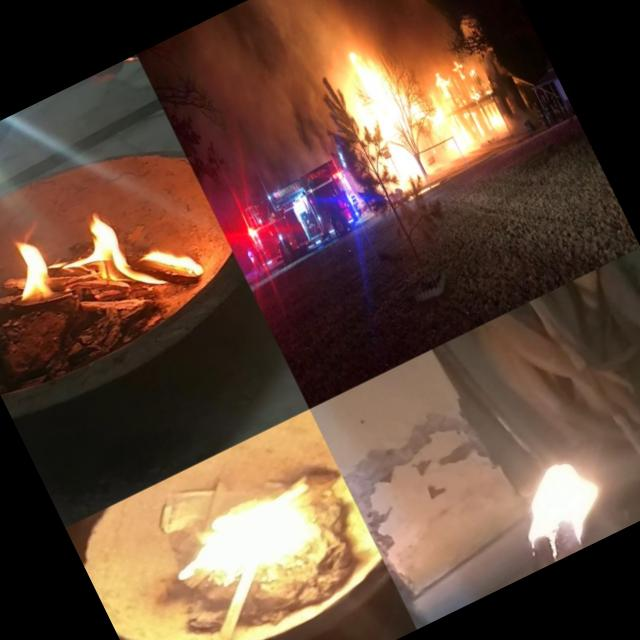fire: (0, 152, 219, 356), (154, 464, 356, 618), (328, 33, 468, 205), (486, 430, 632, 572), (422, 47, 511, 156)
smoke: (178, 0, 347, 194), (454, 5, 538, 138), (269, 0, 374, 76), (339, 0, 441, 41), (402, 10, 468, 70)
